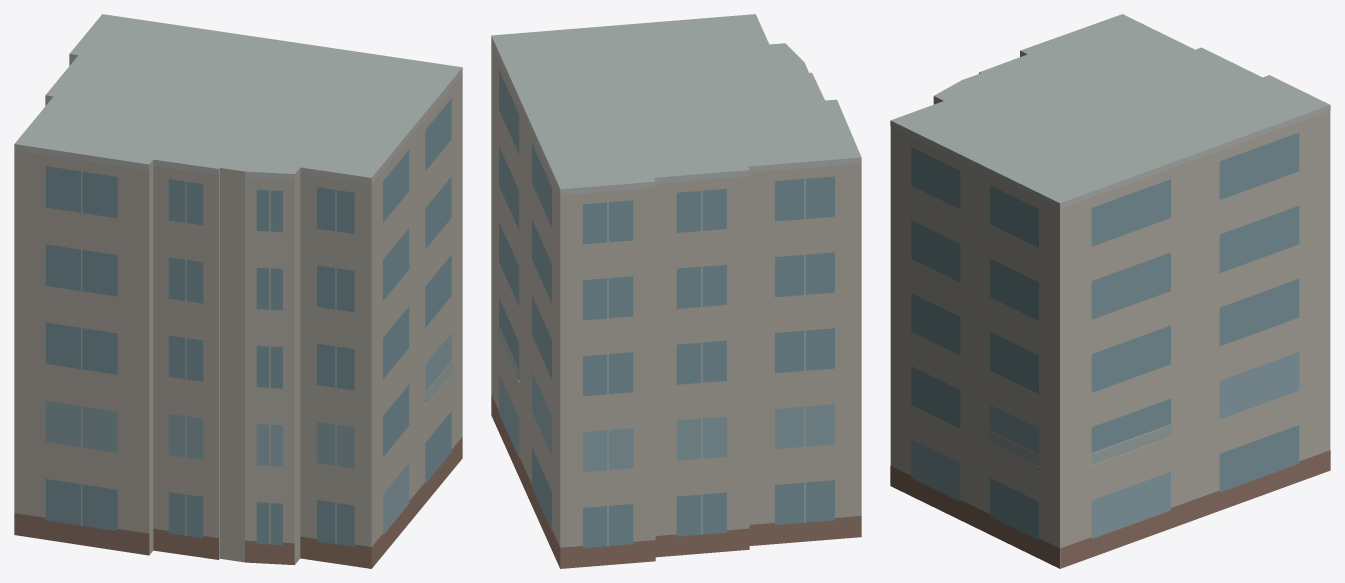
The model's file is survey-upis-32916677.glb.
3 views of the same model, side by side, from view 1: azimuth 30°, elevation 25°; view 2: azimuth 150°, elevation 25°; view 3: azimuth 270°, elevation 25° (orthographic). The views are drawn at different scales.
Visible parts, largest first — view 1: survey-upis-32916677.tmp; view 2: survey-upis-32916677.tmp; view 3: survey-upis-32916677.tmp.
Part boxes in pixels (left/top/right/bottom): survey-upis-32916677.tmp: left=14, top=14, right=462, bottom=568; survey-upis-32916677.tmp: left=491, top=14, right=861, bottom=568; survey-upis-32916677.tmp: left=890, top=14, right=1330, bottom=568.
Size of the model in its own units: 16.94 by 15.25 by 16.64.
